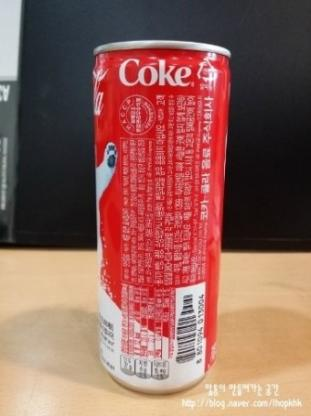Can: (91, 41, 233, 393)
